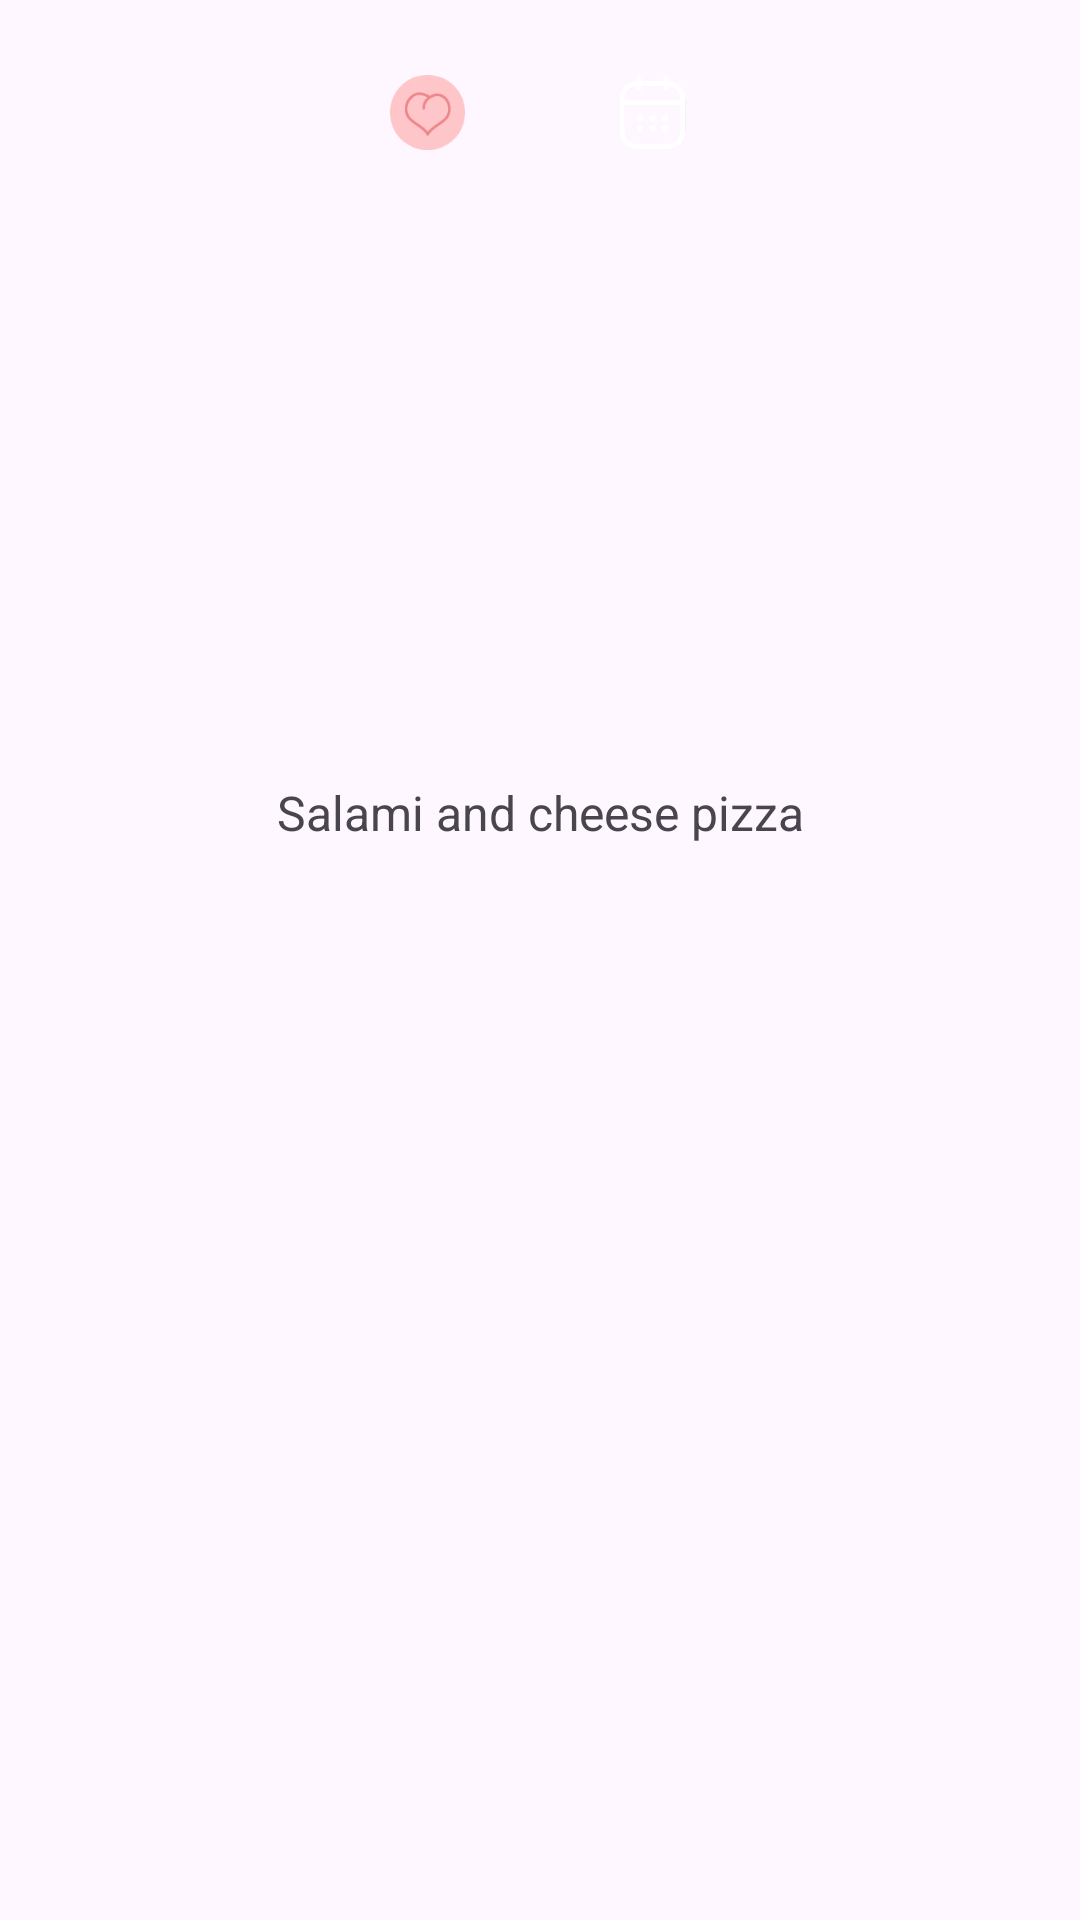

Icons on this 1080px×1920px Android screen, each with its box as bbox=[x1, y1, x2, y2]:
add to favorite: bbox=[390, 75, 465, 150]
